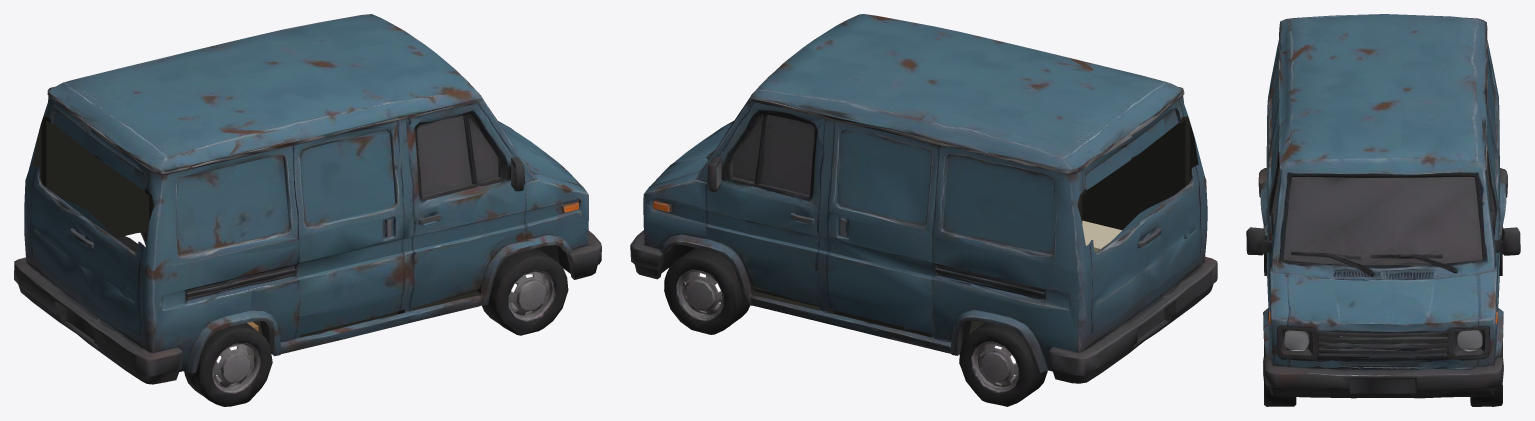
The model's file is van.glb.
The picture shows the model from 3 angles, left to right: view 1: azimuth 30°, elevation 25°; view 2: azimuth 150°, elevation 25°; view 3: azimuth 270°, elevation 25°; orthographic projection. The views are drawn at different scales.
Visible parts, largest first — view 1: body, door_slide_front, door_front_1, door_rear_l, door_rear_r, wheel_3, wheel_1; view 2: body, door_slide_back, door_back_1, door_rear_r, door_rear_l, wheel_4, wheel_2; view 3: body, door_slide_back, door_back_1, door_front_1, door_slide_front, wheel_4, wheel_3.
Boxes of the visible parts, left/top/right/bottom form: body: left=14, top=14, right=601, bottom=384; door_slide_front: left=293, top=130, right=412, bottom=349; door_front_1: left=406, top=115, right=492, bottom=320; door_rear_l: left=74, top=212, right=146, bottom=372; door_rear_r: left=19, top=164, right=89, bottom=329; wheel_3: left=482, top=248, right=568, bottom=335; wheel_1: left=184, top=323, right=272, bottom=406; body: left=630, top=14, right=1217, bottom=383; door_slide_back: left=820, top=130, right=938, bottom=349; door_back_1: left=739, top=115, right=826, bottom=320; door_rear_r: left=1085, top=212, right=1156, bottom=371; door_rear_l: left=1142, top=164, right=1211, bottom=328; wheel_4: left=664, top=247, right=749, bottom=334; wheel_2: left=959, top=322, right=1047, bottom=406; body: left=1246, top=14, right=1520, bottom=398; door_slide_back: left=1487, top=98, right=1500, bottom=266; door_back_1: left=1486, top=151, right=1502, bottom=307; door_front_1: left=1264, top=150, right=1280, bottom=293; door_slide_front: left=1266, top=97, right=1279, bottom=224; wheel_4: left=1470, top=340, right=1503, bottom=406; wheel_3: left=1263, top=342, right=1296, bottom=406.
Size of the model in its own units: 5 by 2.61 by 2.76.
10 materials, 4 textured.
